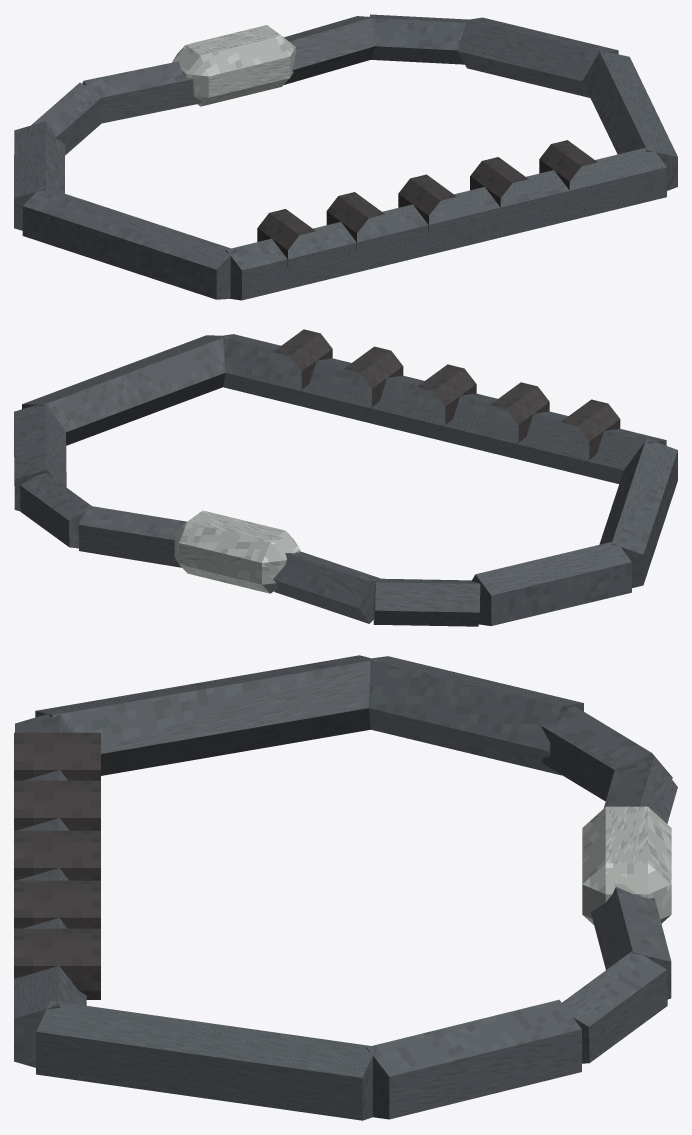
Rendered from bandolier_wrist.glb.
3 views of the same model, one above another, from view 1: azimuth 30°, elevation 25°; view 2: azimuth 150°, elevation 25°; view 3: azimuth 270°, elevation 25° (orthographic). The views are drawn at different scales.
Visible parts, largest first — view 1: block_looped strap 2, block_looped strap 1, block_strap end 1 (×2), block_empty stitched loop (×5), block_looped strap 4, block_strap keeper, block_strap end 0 (×2), block_looped strap 3, block_looped strap 0; view 2: block_looped strap 2, block_looped strap 3, block_strap end 1 (×2), block_looped strap 0, block_strap end 0 (×2), block_empty stitched loop (×5), block_strap keeper, block_looped strap 1, block_looped strap 4; view 3: block_looped strap 3, block_looped strap 1, block_empty stitched loop (×5), block_looped strap 4, block_looped strap 0, block_strap end 0 (×2), block_strap keeper, block_strap end 1 (×2), block_looped strap 2.
Part boxes in pixels (box(x1,y1,x2,y2)): block_looped strap 2: box(225, 146, 666, 300); block_looped strap 1: box(22, 186, 236, 299); block_strap end 1 (×2): box(82, 16, 376, 123); block_empty stitched loop (×5): box(257, 140, 597, 267); block_looped strap 4: box(457, 17, 618, 97); block_strap keeper: box(172, 25, 295, 106); block_strap end 0 (×2): box(31, 14, 467, 155); block_looped strap 3: box(582, 50, 677, 190); block_looped strap 0: box(14, 121, 65, 230); block_looped strap 2: box(217, 334, 666, 483); block_looped strap 3: box(22, 335, 228, 445); block_strap end 1 (×2): box(78, 505, 381, 623); block_looped strap 0: box(471, 541, 631, 625); block_strap end 0 (×2): box(20, 473, 480, 626); block_empty stitched loop (×5): box(273, 329, 620, 466); block_strap keeper: box(173, 510, 300, 593); block_looped strap 1: box(599, 438, 677, 587); block_looped strap 4: box(14, 402, 66, 511); block_looped strap 3: box(36, 1000, 376, 1120); block_looped strap 1: box(35, 655, 376, 775); block_empty stitched loop (×5): box(14, 732, 100, 999); block_looped strap 4: box(366, 999, 581, 1119); block_looped strap 0: box(365, 656, 583, 775); block_strap end 0 (×2): box(541, 706, 672, 1063); block_strap keeper: box(582, 806, 671, 924); block_strap end 1 (×2): box(591, 756, 677, 999); block_looped strap 2: box(14, 710, 86, 1067).
Bounding box in the file's own units: 0.1795 × 0.0174 × 0.1192.
Materials: 1 (1 with a texture image).
